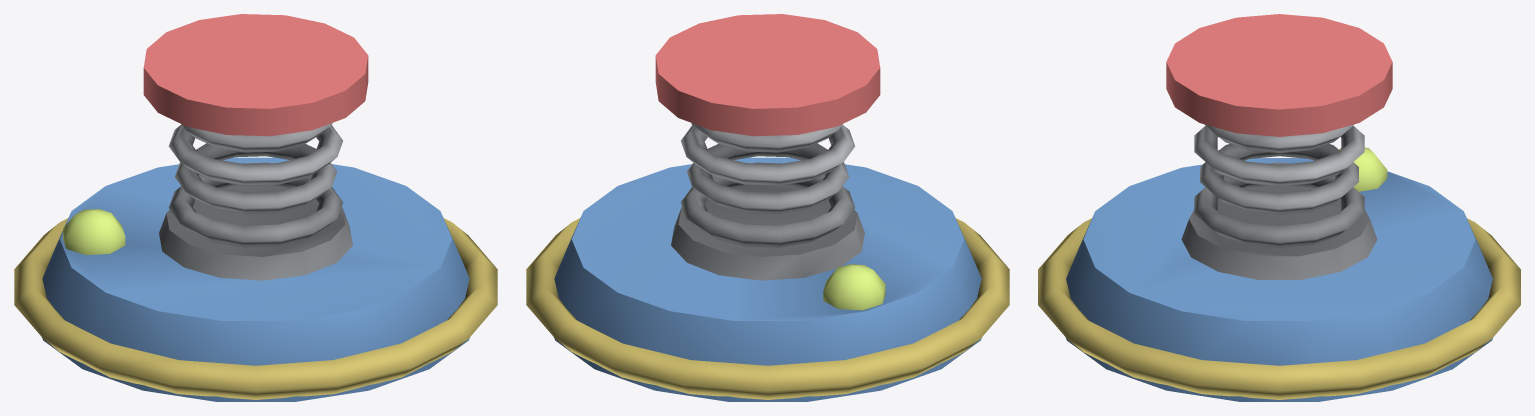
The model's file is SpringMine.fbx.
3 renders of one model, left to right at view 1: azimuth 30°, elevation 25°; view 2: azimuth 150°, elevation 25°; view 3: azimuth 270°, elevation 25°, orthographic.
Visible parts, largest first — view 1: spring_mine; view 2: spring_mine; view 3: spring_mine.
Part boxes in pixels (left/top/right/bottom): spring_mine: left=14, top=14, right=497, bottom=401; spring_mine: left=526, top=14, right=1009, bottom=401; spring_mine: left=1038, top=14, right=1520, bottom=401.
Size of the model in its own units: 0.65 by 0.36 by 0.6401.
